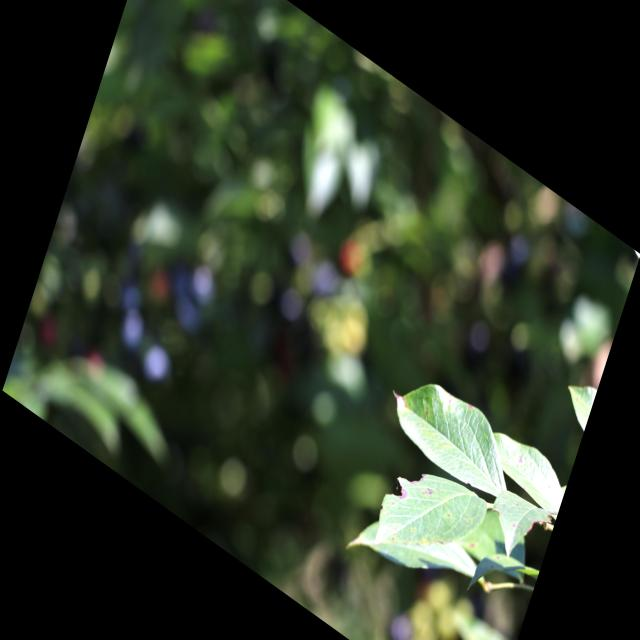blueberry: (112, 300, 152, 360), (140, 338, 177, 392)
